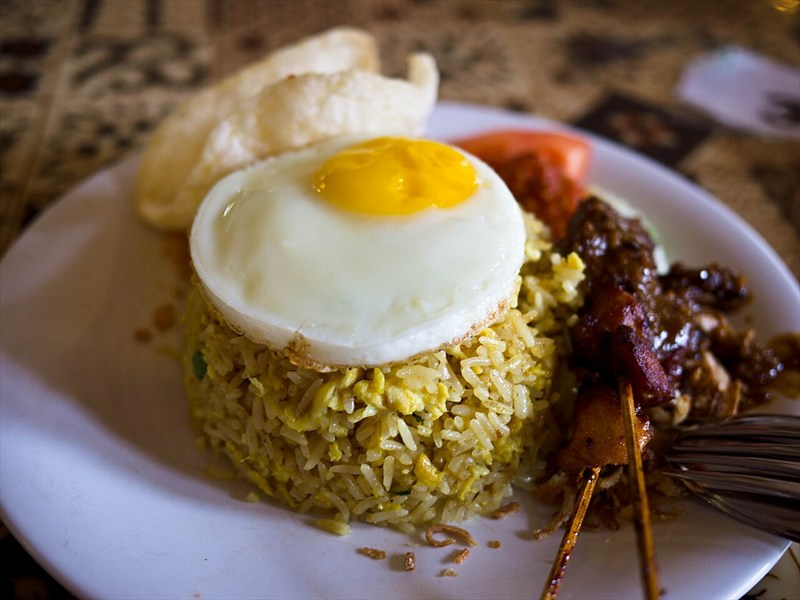Nasi Goreng: (222, 64, 713, 491)
